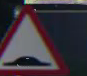Speed Breaker ahead: (0, 4, 65, 75)
